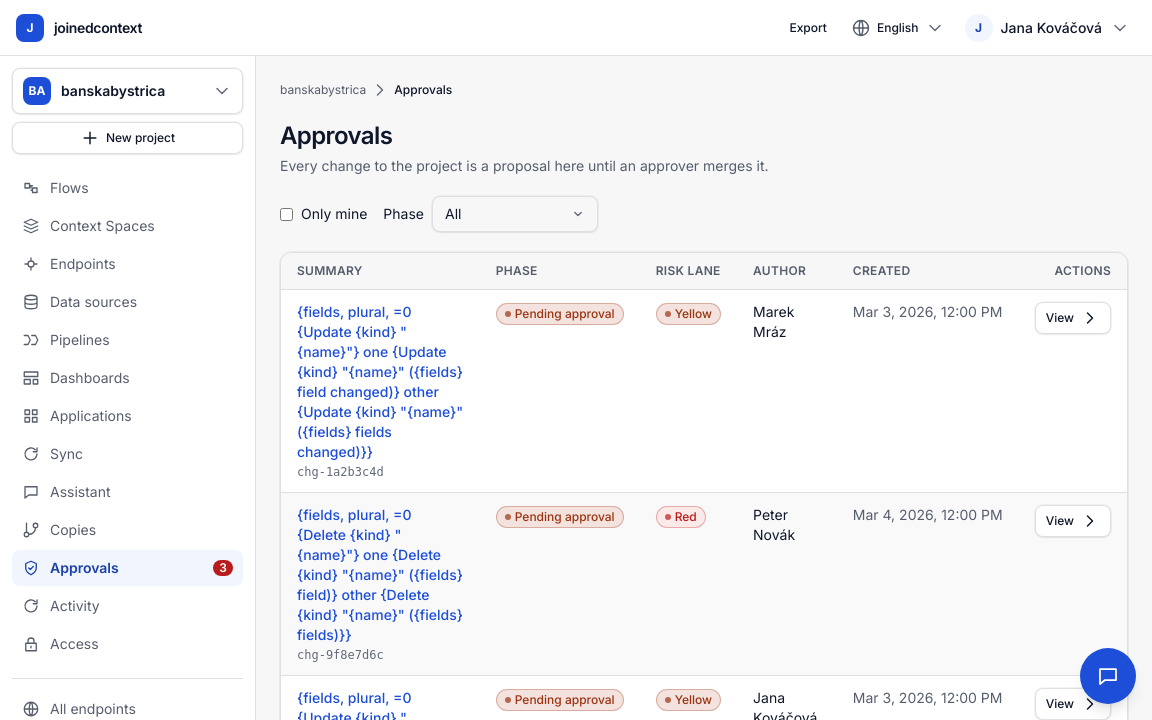
Test case: pending approvals view › narrows the list to the caller's own proposals
Expected: the text "chg-9f8e7d6c" is shown, [297,648,384,662]
Click the checkbox labelled "Only mine" at {"x": 286, "y": 214}, box [280,208,293,220]
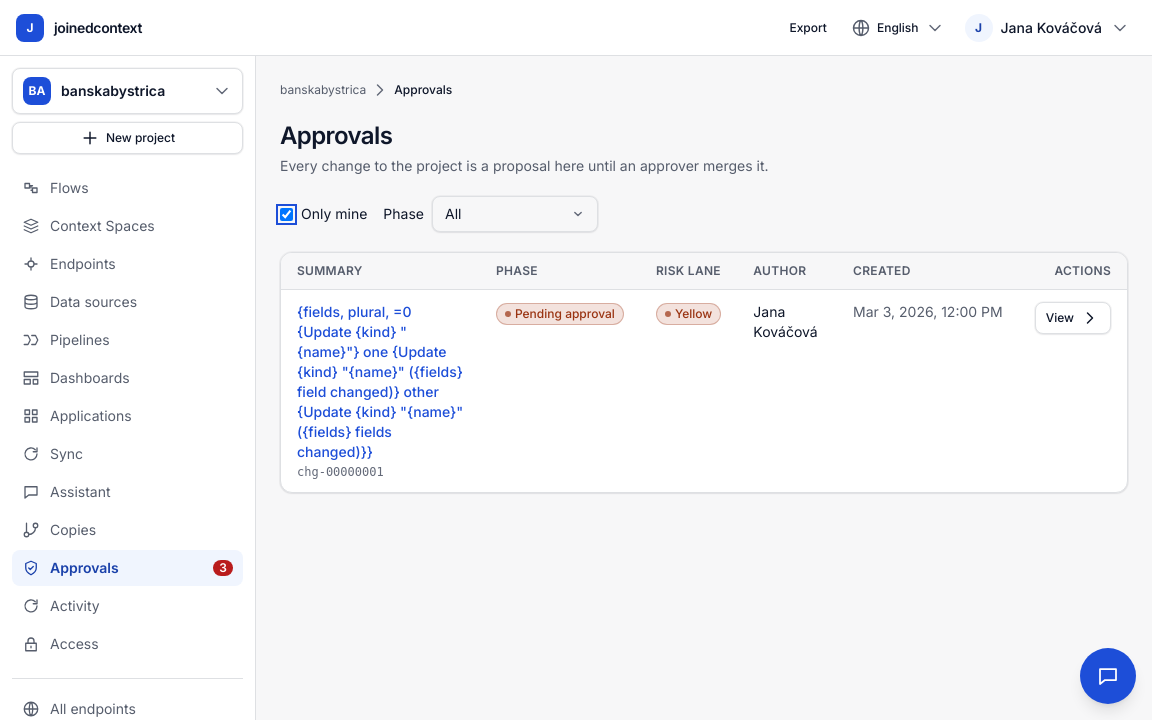
Expected: the text "chg-00000001" is shown, [297,465,384,479]
Expected: the text "chg-9f8e7d6c" is gone
Expected: the text "chg-1a2b3c4d" is gone
